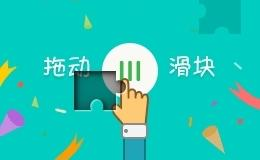target: (53, 51, 95, 90)
